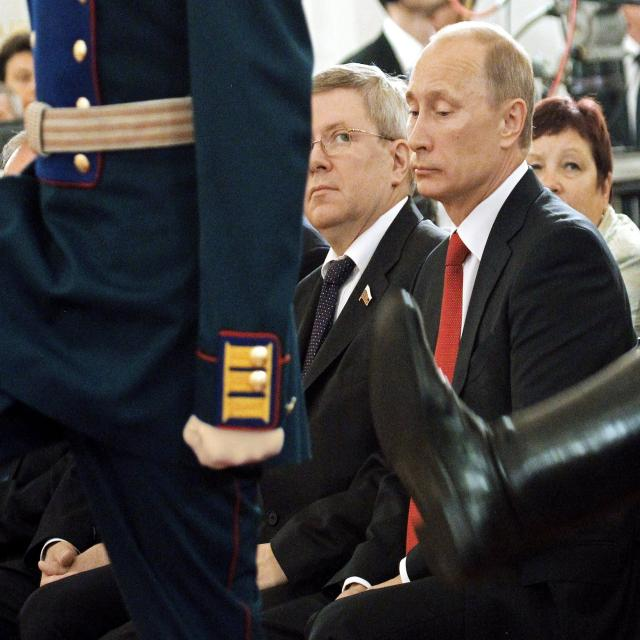body: (233, 18, 640, 640), (0, 0, 311, 638), (244, 58, 455, 640), (356, 282, 640, 578), (525, 90, 640, 354), (332, 0, 491, 77), (0, 26, 67, 154)
